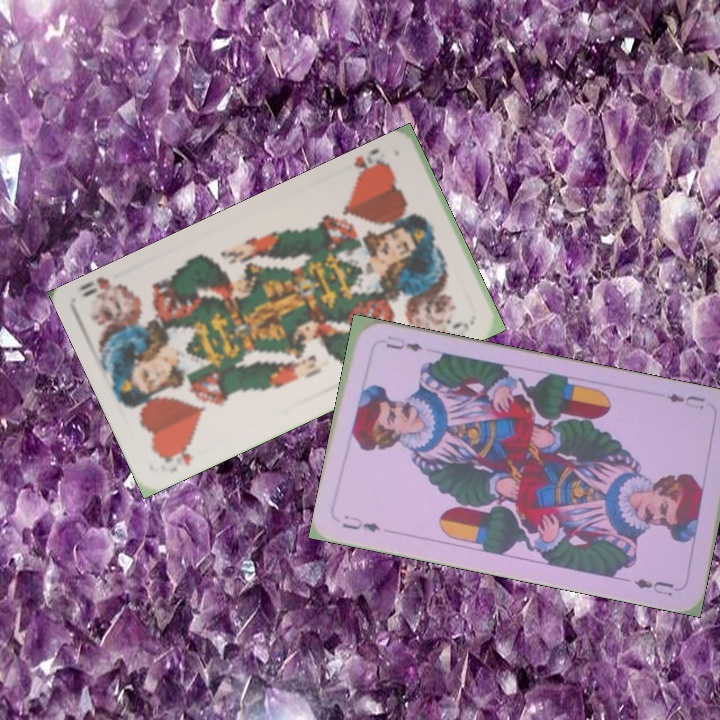EU: (338, 511, 383, 535), (663, 389, 708, 412)
HO: (349, 145, 392, 186), (155, 438, 195, 469)
